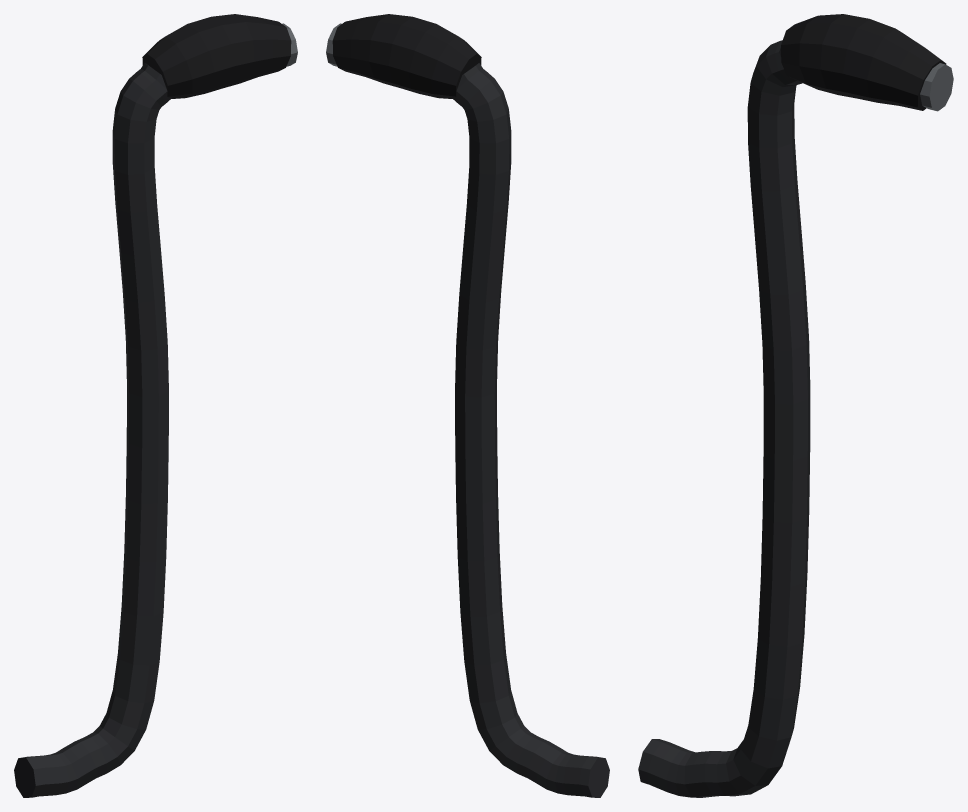
File: MinidoracatTesla_CablePlug.fbx
3 views of the same model, side by side, from view 1: azimuth 30°, elevation 25°; view 2: azimuth 150°, elevation 25°; view 3: azimuth 330°, elevation 25° (orthographic). The views are drawn at different scales.
Visible parts, largest first — view 1: MinidoracatTesla_CablePlug; view 2: MinidoracatTesla_CablePlug; view 3: MinidoracatTesla_CablePlug.
Part boxes in pixels (box(x1,y1,x2,y2)): MinidoracatTesla_CablePlug: box(14, 14, 297, 797); MinidoracatTesla_CablePlug: box(326, 14, 609, 797); MinidoracatTesla_CablePlug: box(638, 14, 953, 797).
Size of the model in its own units: 0.3639 by 0.9683 by 0.088.
